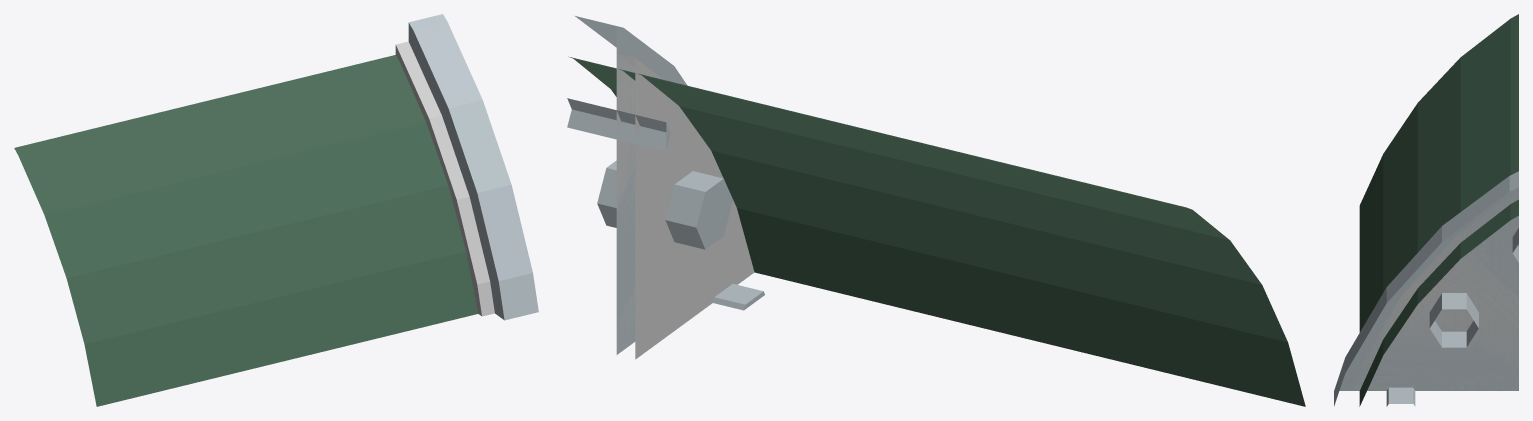
Rendered from cell_66.obj.
3 renders of one model, left to right at view 1: azimuth 30°, elevation 25°; view 2: azimuth 150°, elevation 25°; view 3: azimuth 270°, elevation 25°, orthographic. The views are drawn at different scales.
Size of the model in its own units: 1 by 0.5078 by 0.3874.
